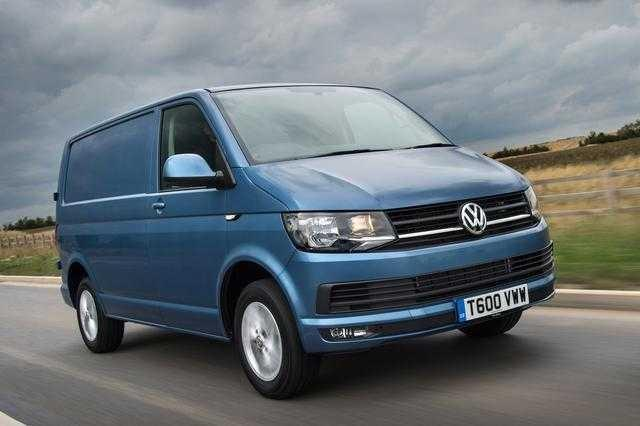car: (41, 88, 579, 389)
